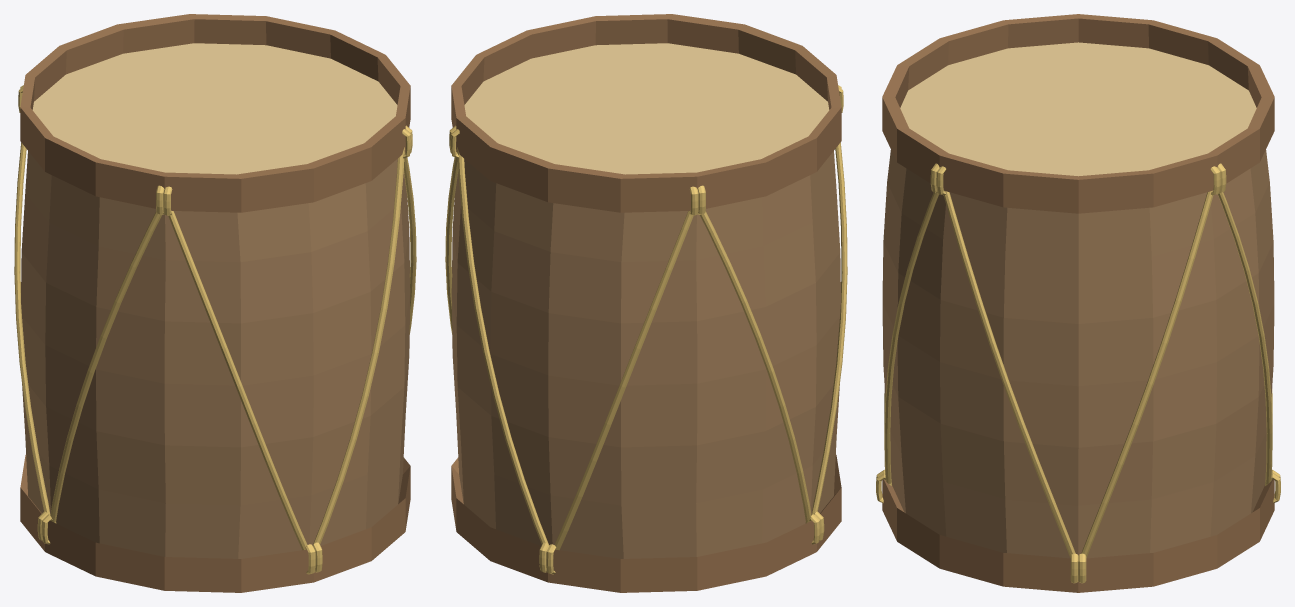
File: Bombo.fbx
The picture shows the model from 3 angles, left to right: view 1: azimuth 30°, elevation 25°; view 2: azimuth 150°, elevation 25°; view 3: azimuth 270°, elevation 25°; orthographic projection.
Parts seen in each view (by area): view 1: Circle; view 2: Circle; view 3: Circle.
Part boxes in pixels (left/top/right/bottom): Circle: left=14, top=14, right=416, bottom=592; Circle: left=445, top=14, right=847, bottom=592; Circle: left=876, top=14, right=1280, bottom=592.
Bounding box in the file's own units: 212 × 239 × 212.
